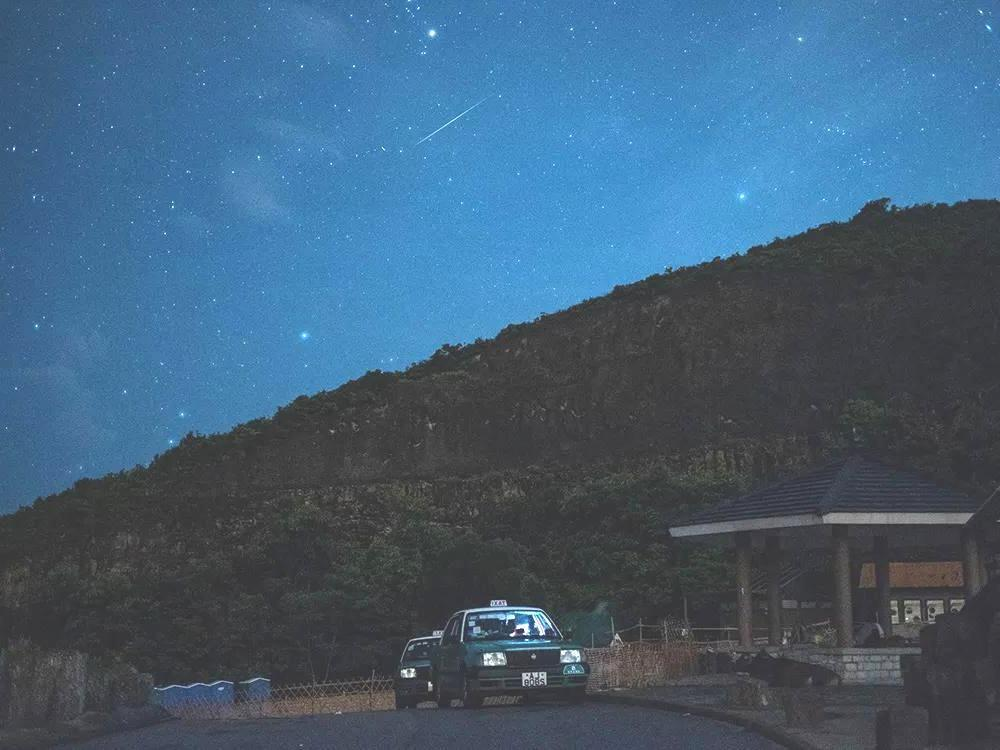meteorite: (404, 73, 511, 142)
